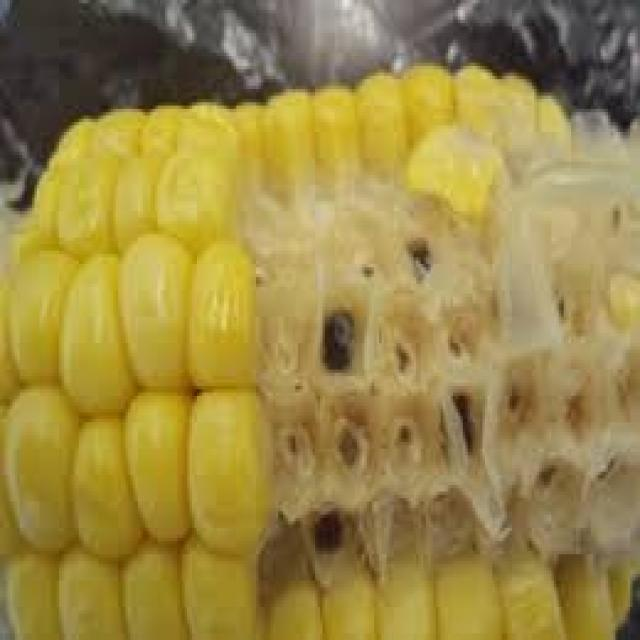organic waste: (0, 59, 638, 637), (54, 251, 136, 419), (187, 386, 268, 551), (2, 386, 79, 551), (116, 231, 187, 389), (187, 238, 254, 390), (72, 409, 140, 558), (123, 393, 187, 541), (404, 122, 502, 214), (153, 135, 229, 244), (180, 531, 258, 637), (8, 254, 72, 383), (120, 544, 194, 637), (54, 541, 123, 637), (428, 551, 500, 637), (492, 554, 566, 637), (57, 145, 113, 251), (556, 544, 616, 637), (355, 66, 406, 168), (111, 145, 160, 251), (264, 89, 310, 198), (175, 96, 239, 168), (374, 558, 433, 636), (401, 60, 453, 148), (8, 544, 56, 637), (15, 165, 64, 251), (310, 82, 360, 165), (322, 564, 377, 637), (263, 570, 320, 636), (0, 264, 20, 399), (455, 60, 495, 126), (234, 96, 263, 182), (52, 106, 94, 162), (94, 102, 140, 152), (499, 73, 532, 138), (143, 96, 180, 152), (603, 260, 638, 316), (537, 89, 566, 145), (606, 564, 630, 630)
